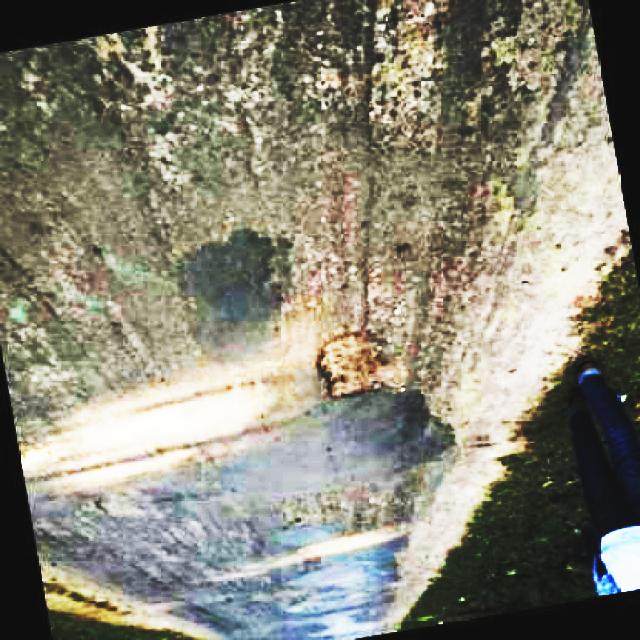pothole: (317, 328, 400, 400)
